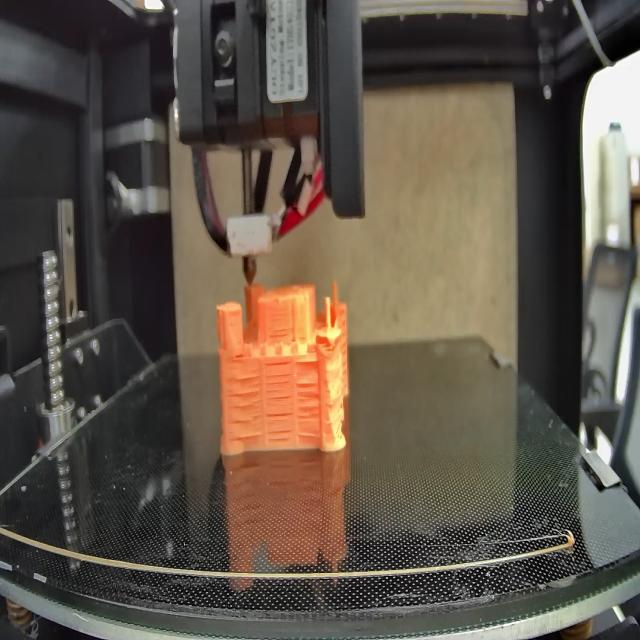cracks: (264, 360, 294, 442), (227, 375, 262, 438), (297, 380, 319, 440), (268, 320, 293, 344), (231, 344, 248, 364), (295, 358, 319, 369)
